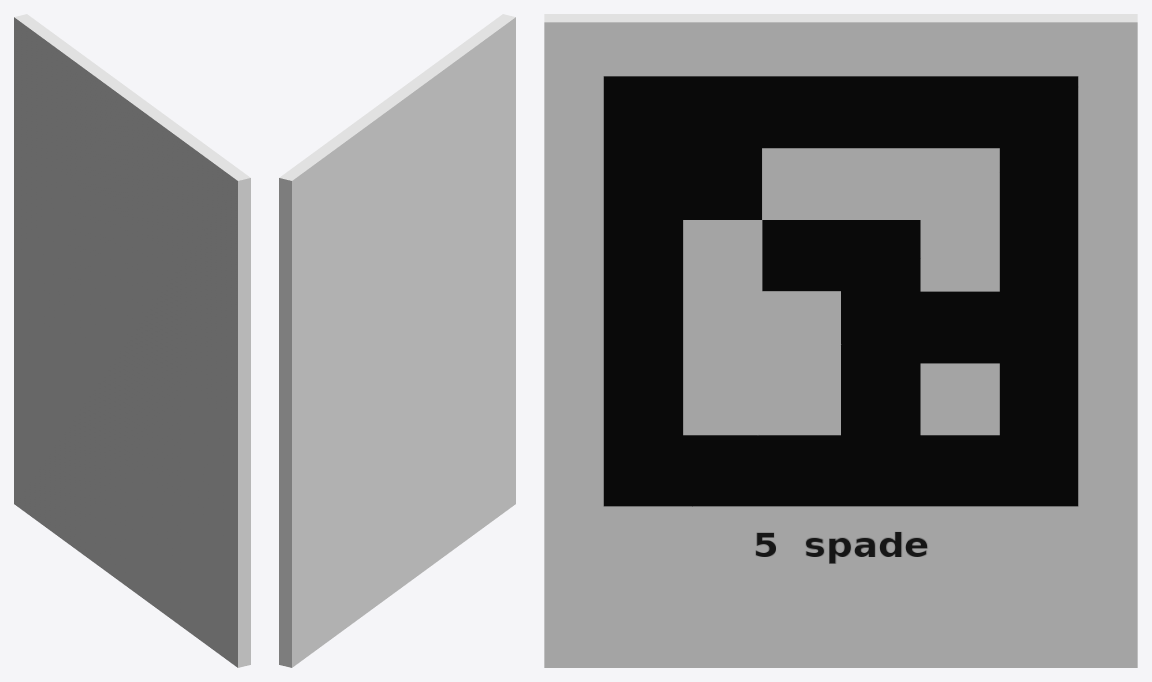
The model's file is tag_spade.dae.
3 views of the same model, side by side, from view 1: azimuth 30°, elevation 25°; view 2: azimuth 150°, elevation 25°; view 3: azimuth 270°, elevation 25° (orthographic). The views are drawn at different scales.
Parts seen in each view (by area): view 1: tag_spade; view 2: tag_spade; view 3: tag_spade.
Part boxes in pixels (x1,y1,x2,y2): tag_spade: [14, 14, 250, 667]; tag_spade: [279, 14, 515, 667]; tag_spade: [544, 14, 1137, 667].
Bounding box in the file's own units: 0.01 × 0.3 × 0.36.
Materials: 1 (1 with a texture image).
